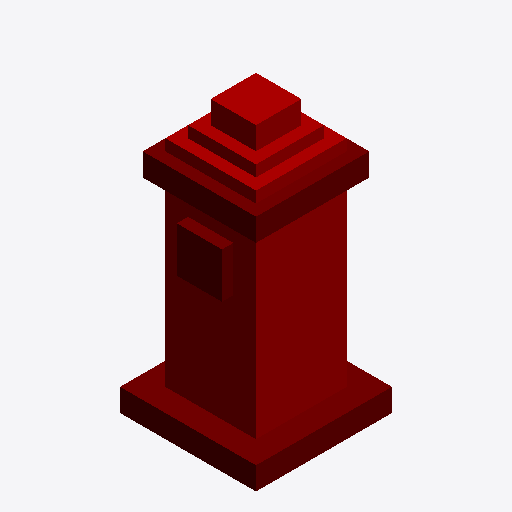
Isometric view (azimuth 45°, elevation 35.3°) of a Minecraft model made of 10 cuboids, textured from the same repository.
Visible parts, largest first — element 2, element 1, element 3, element 4, element 6, element 5, element 9.
Boxes of the visible parts, <box> form: element 2: <box>165,191,346,438</box>; element 1: <box>120,361,391,490</box>; element 3: <box>143,139,368,242</box>; element 4: <box>165,125,346,202</box>; element 6: <box>211,73,300,150</box>; element 5: <box>188,112,323,176</box>; element 9: <box>177,217,232,301</box>.
Bounding box in the file's own units: 6 × 12 × 6.